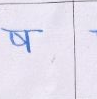aa_matra: (25, 32, 30, 54)
